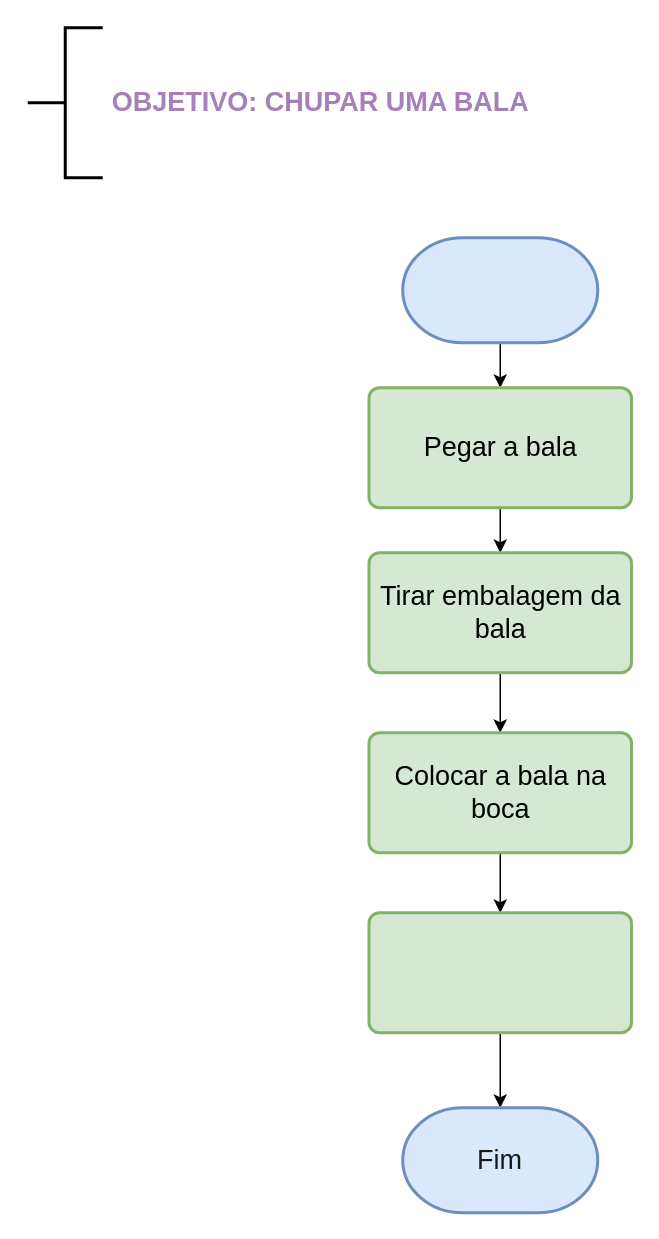
Some shapes in this 659 by 1239 pixel diagram are drawn without their labels. The centre of each missing label's shape, as x and y in pixels:
Início: the point at 499,290
Jogar a embalagem no lixo: the point at 499,972
